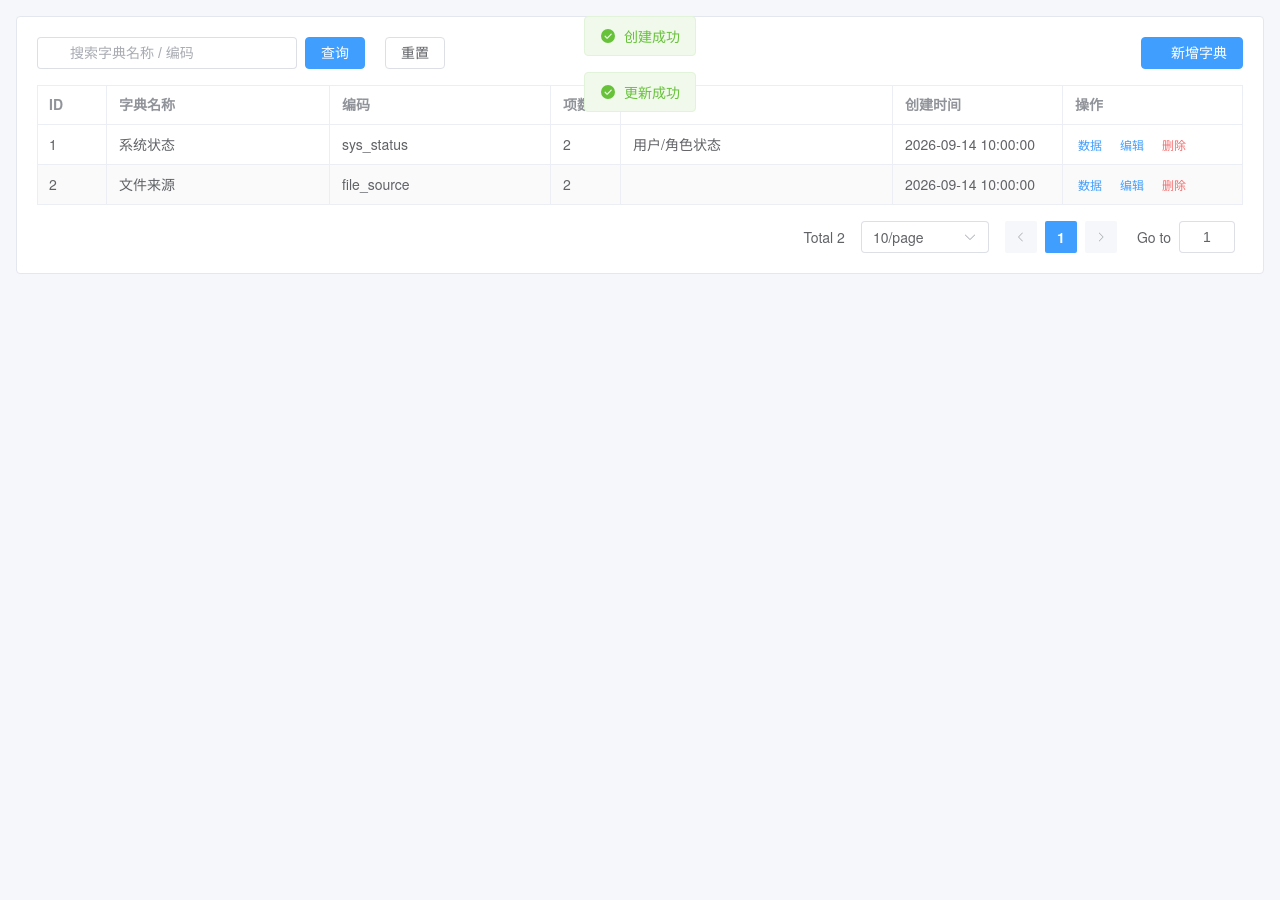
Test case: DictList 字典项管理 › 点「数据」打开项弹窗并加载项列表
Click the button "数据" in the row of "系统状态": (1090, 146) x1=1075 y1=137 x2=1105 y2=155
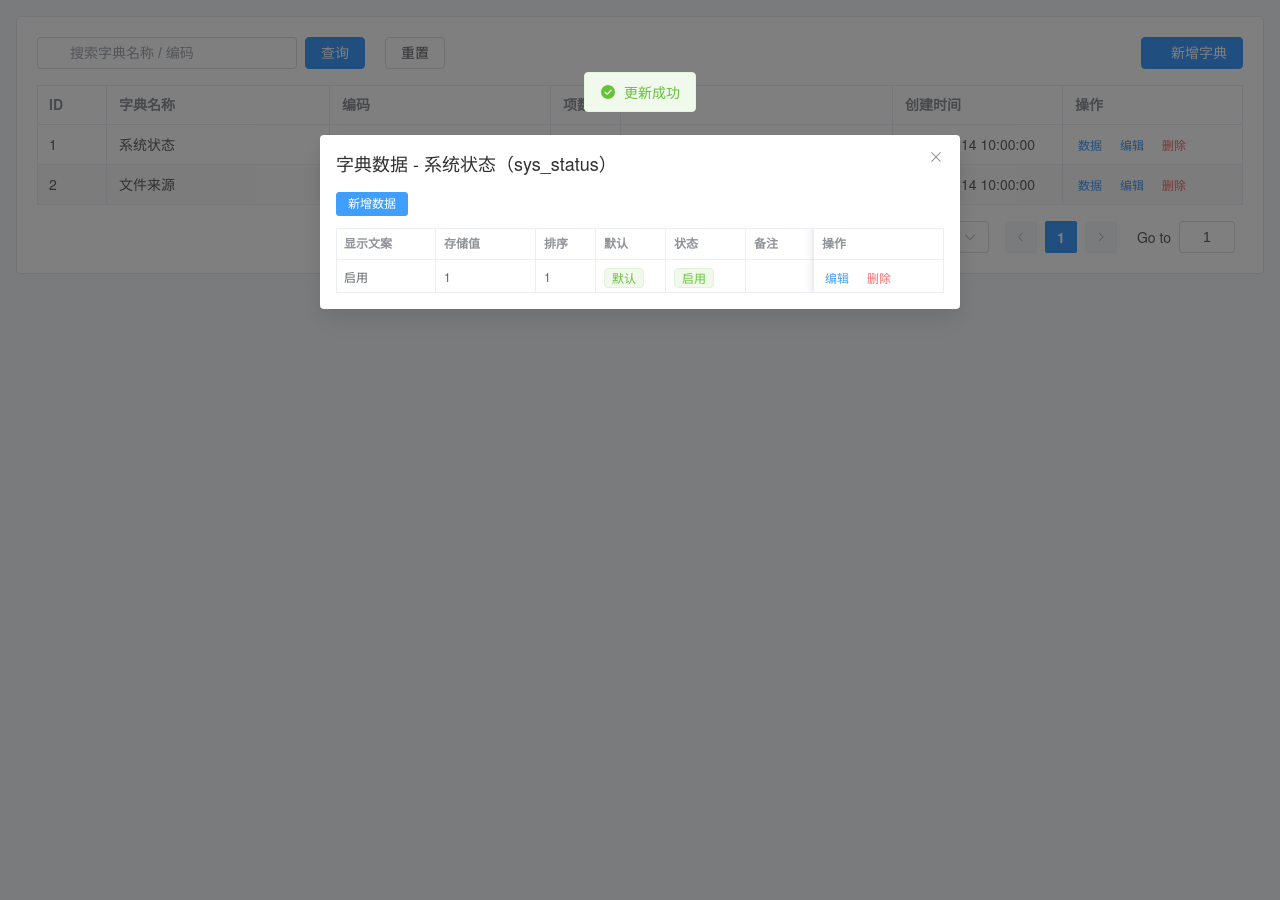
Now the text "字典数据" is shown, box x1=336 y1=150 x2=617 y2=176
Now the text "启用" is shown, box x1=344 y1=268 x2=368 y2=285
